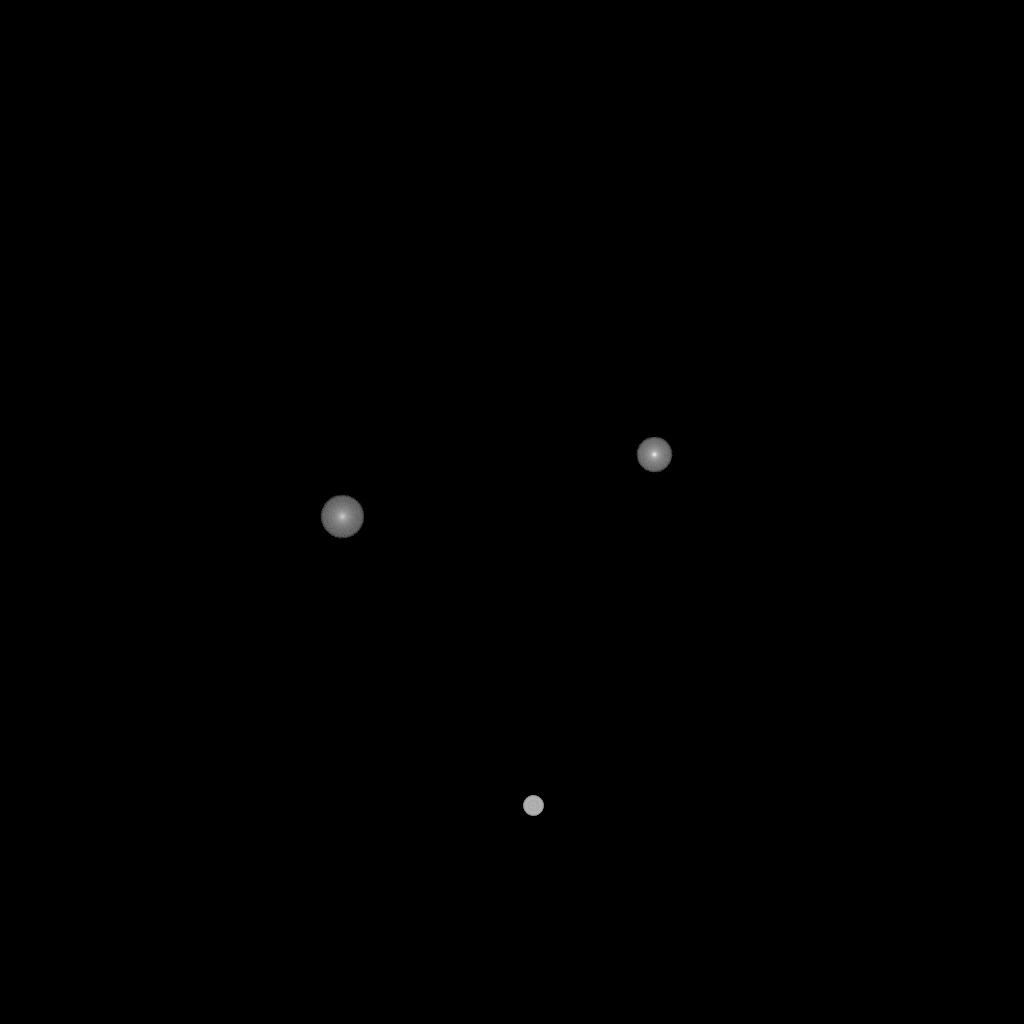depth:-40: (523, 796, 543, 816)
depth:0: (636, 437, 672, 473)
depth:10: (320, 495, 364, 539)
